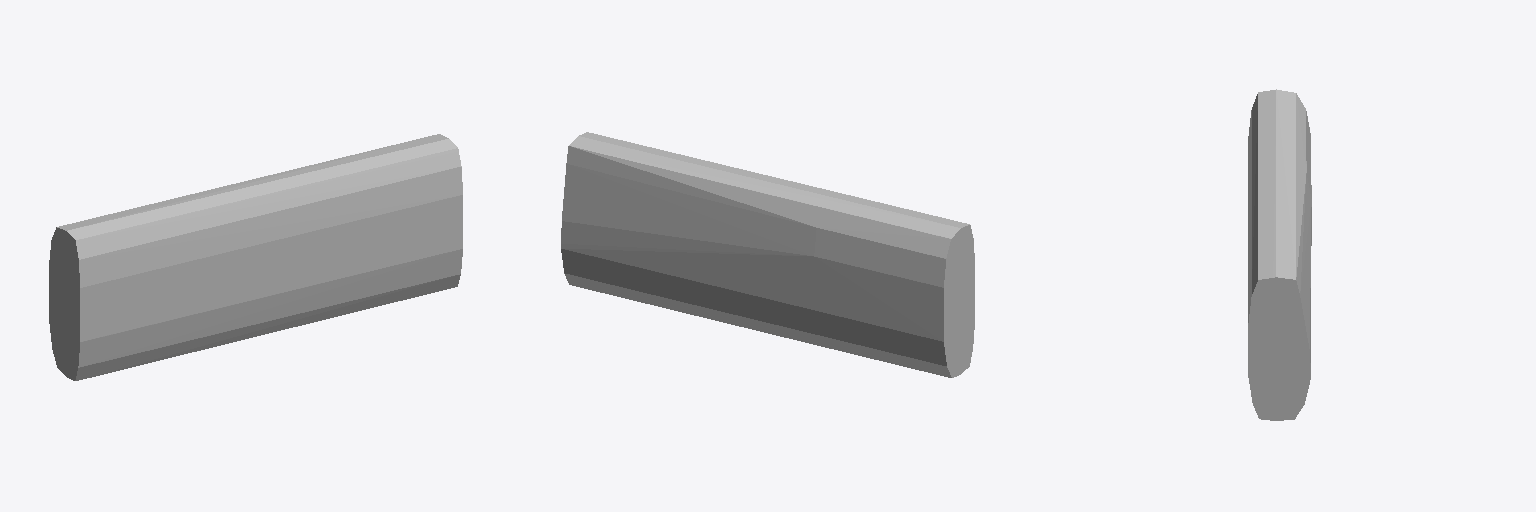
Rendered from work_bench_collision_15.obj.
3 renders of one model, left to right at view 1: azimuth 30°, elevation 25°; view 2: azimuth 150°, elevation 25°; view 3: azimuth 270°, elevation 25°, orthographic.
Bounding box in the file's own units: 0.2736 × 0.0998 × 0.0391.